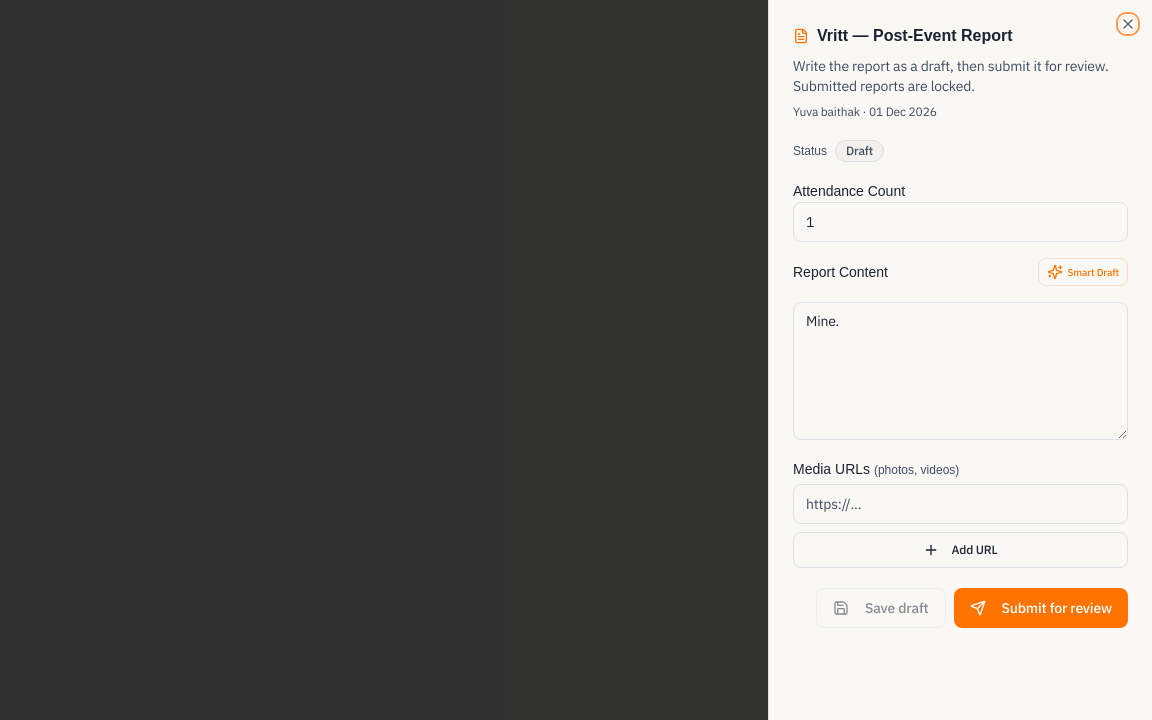
Scenario: when a request fails › explains a conflict and reloads the current report
Click the button "Submit for review": (1041, 608) x1=954 y1=588 x2=1128 y2=628
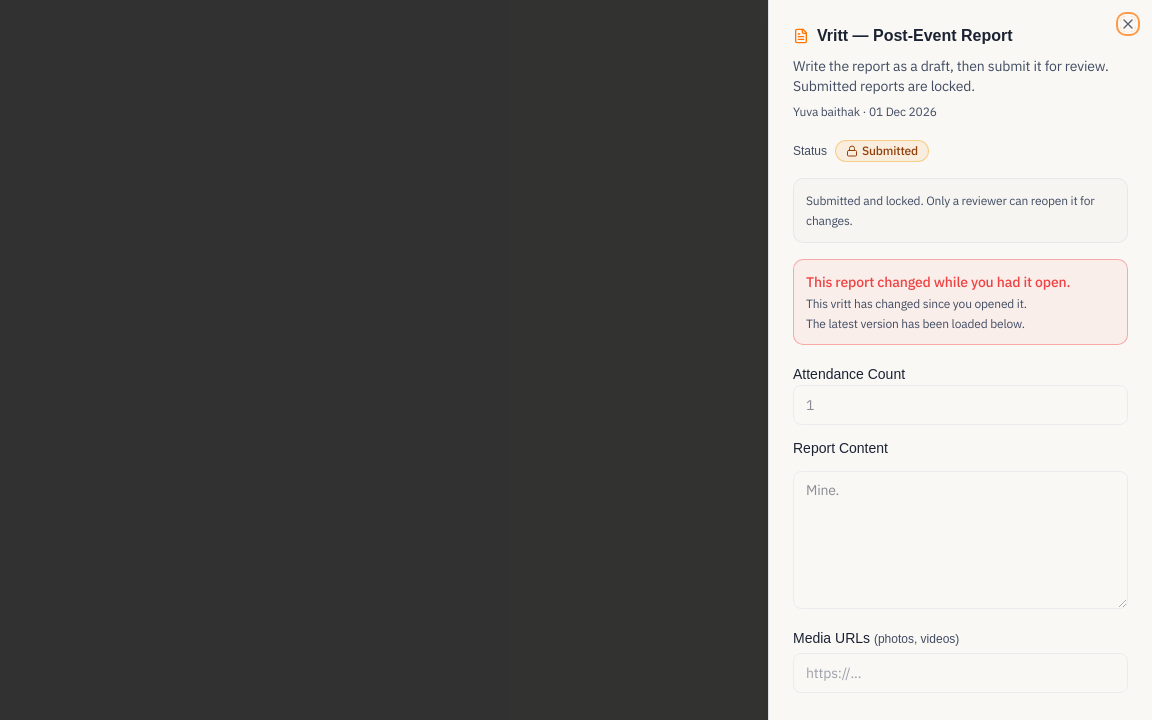
expect the message with test id "vritt-error" shows "This report changed while you had it open.": met, box x1=806 y1=273 x2=1070 y2=291
expect the message with test id "vritt-error" shows "The latest version has been loaded below.": met, box x1=806 y1=316 x2=1025 y2=331
expect the element with test id "vritt-status" reads "Submitted": met, box x1=862 y1=143 x2=918 y2=158
